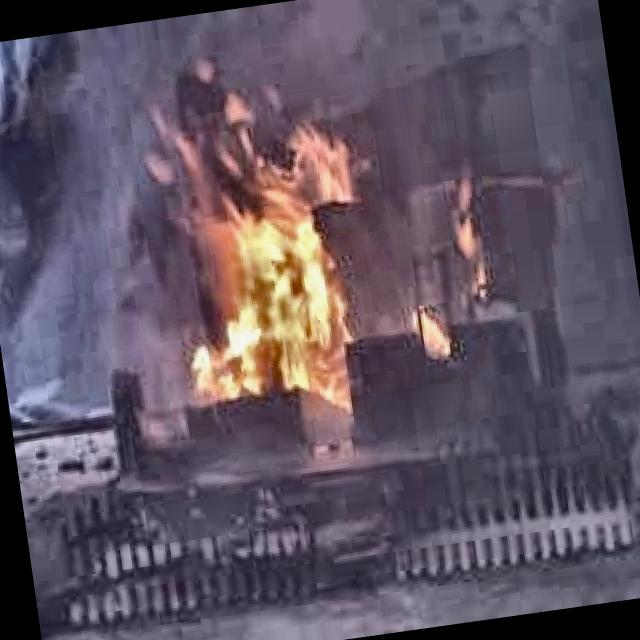fire: (102, 14, 511, 450)
